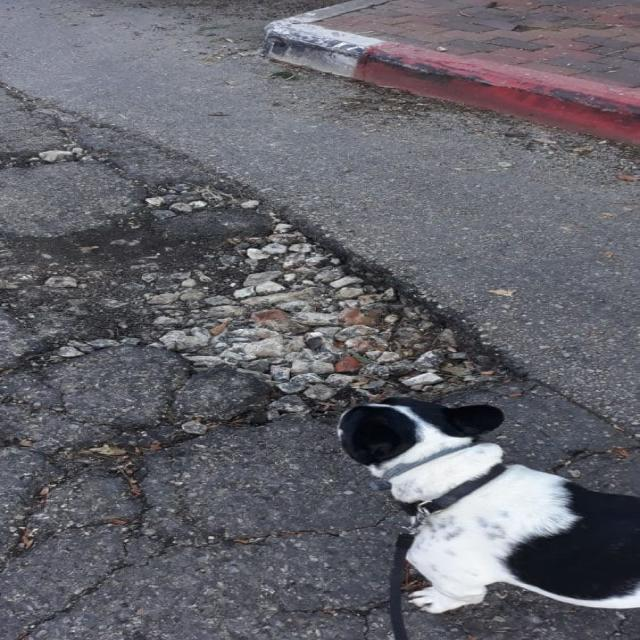major_pothole: (0, 142, 498, 400)
